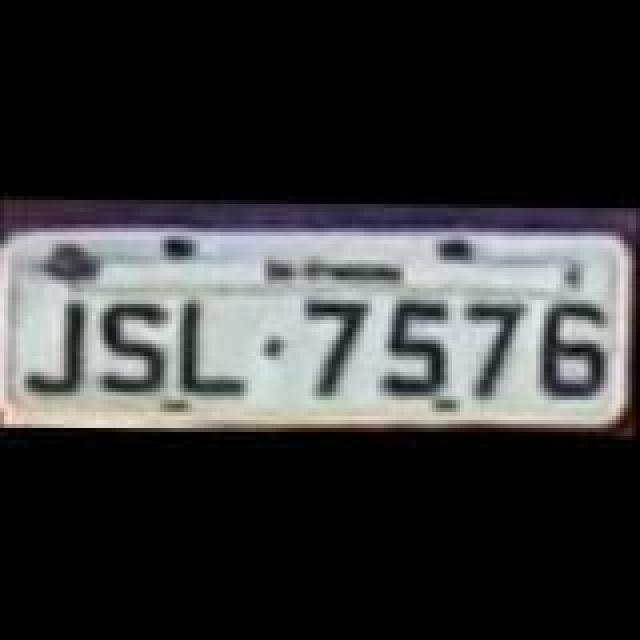5: (390, 302, 454, 402)
6: (538, 302, 610, 402)
7: (298, 298, 370, 406), (462, 300, 526, 404)
J: (26, 296, 90, 400)
L: (182, 300, 254, 404)
S: (100, 296, 168, 400)
